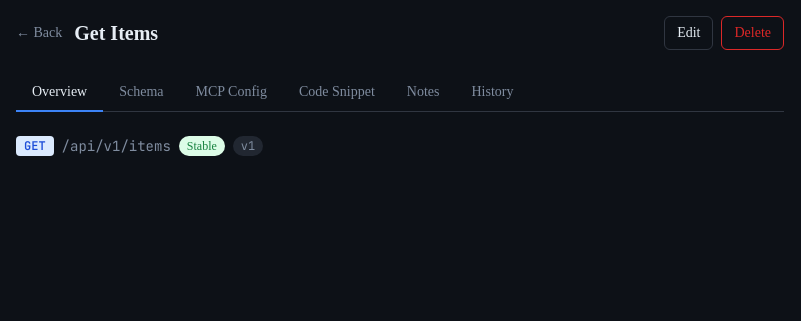
Test: ApiDetailPage — history events › shows empty state in History tab when no events exist
This screenshot has width=801, height=321.
Expected: the heading "Get Items" is shown, [74,19,158,47]
Click the tab "History": (492, 93) [456,74,530,112]
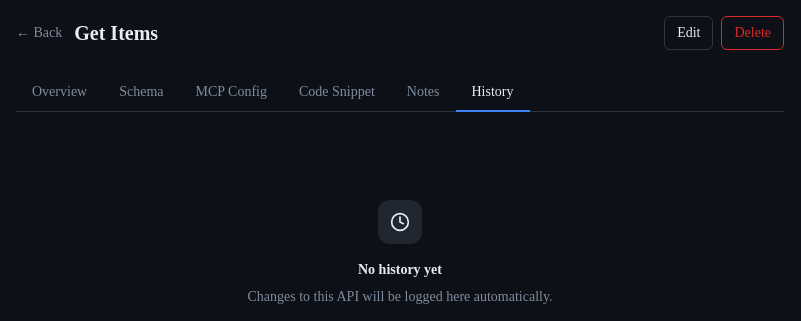
Now the heading "No history yet" is shown, box [358,260,442,280]
